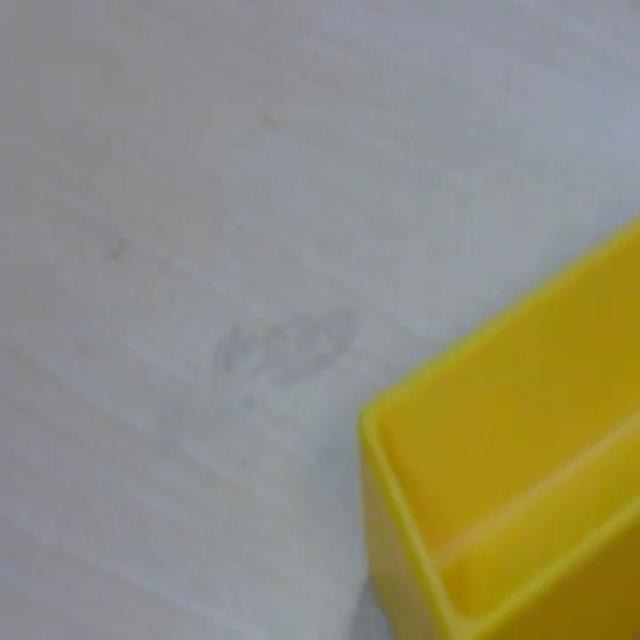yellow_block: (356, 213, 638, 636)
